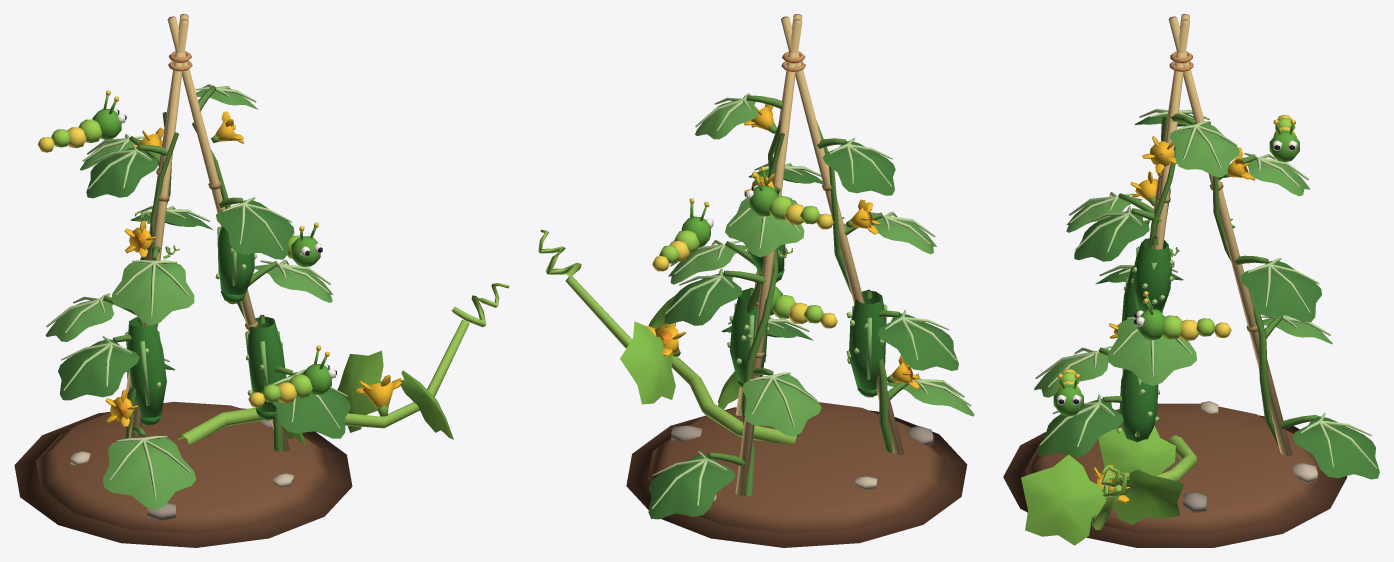
The model's file is cucumber.glb.
3 renders of one model, left to right at view 1: azimuth 30°, elevation 25°; view 2: azimuth 150°, elevation 25°; view 3: azimuth 270°, elevation 25°, orthographic.
Visible parts, largest first — view 1: VN_mound_soil, VN_mound_rim, VN_mound, VN_leaf_2_blade, VN_shoot, VN_leaf_8_blade, VN_leaf_5_blade, VN_shoot_stem, VN_leaf_9_blade, VN_fruit_1_cucumber_body, VN_leaf_3_blade, VN_pests (+11 smaller); view 2: VN_mound_soil, VN_mound, VN_mound_rim, VN_shoot, VN_vines, VN_pests, VN_leaf_1_blade, VN_leaf_4_blade, VN_shoot_stem, VN_leaf_5_blade, VN_fruit_1_cucumber_body, VN_leaf_11_blade (+12 smaller); view 3: VN_mound_soil, VN_shoot, VN_mound, VN_mound_rim, VN_leaf_1_blade, VN_leaf_6_blade, VN_leaf_7_blade, VN_leaf_3_blade, VN_vines, VN_leaf_12_blade, VN_fruit_3_cucumber_body, VN_fruit_2_cucumber_body (+13 smaller).
Boxes of the visible parts, bbox=[...] form: VN_mound_soil: bbox=[36, 401, 330, 533]; VN_mound_rim: bbox=[14, 408, 352, 547]; VN_mound: bbox=[70, 14, 293, 520]; VN_leaf_2_blade: bbox=[103, 438, 196, 509]; VN_shoot: bbox=[284, 350, 453, 445]; VN_leaf_8_blade: bbox=[111, 262, 194, 325]; VN_leaf_5_blade: bbox=[58, 339, 139, 400]; VN_shoot_stem: bbox=[178, 320, 469, 444]; VN_leaf_9_blade: bbox=[216, 200, 294, 259]; VN_fruit_1_cucumber_body: bbox=[127, 317, 166, 417]; VN_leaf_3_blade: bbox=[268, 372, 350, 438]; VN_pests: bbox=[37, 119, 312, 407]; VN_mound_soil: bbox=[648, 402, 945, 533]; VN_mound: bbox=[671, 14, 933, 502]; VN_mound_rim: bbox=[626, 407, 967, 547]; VN_shoot: bbox=[620, 296, 766, 409]; VN_vines: bbox=[741, 121, 893, 496]; VN_pests: bbox=[652, 195, 837, 328]; VN_leaf_1_blade: bbox=[648, 454, 735, 519]; VN_leaf_4_blade: bbox=[742, 374, 821, 436]; VN_shoot_stem: bbox=[565, 276, 798, 444]; VN_leaf_5_blade: bbox=[877, 313, 958, 370]; VN_fruit_1_cucumber_body: bbox=[849, 290, 886, 390]; VN_leaf_11_blade: bbox=[822, 141, 895, 195]; VN_mound_soil: bbox=[1025, 403, 1324, 533]; VN_shoot: bbox=[1021, 425, 1184, 545]; VN_mound: bbox=[1149, 14, 1317, 513]; VN_mound_rim: bbox=[1003, 415, 1347, 547]; VN_leaf_1_blade: bbox=[1292, 416, 1379, 479]; VN_leaf_6_blade: bbox=[1108, 319, 1196, 385]; VN_leaf_7_blade: bbox=[1240, 261, 1321, 322]; VN_leaf_3_blade: bbox=[1038, 399, 1123, 457]; VN_vines: bbox=[1149, 117, 1278, 447]; VN_leaf_12_blade: bbox=[1170, 123, 1239, 177]; VN_fruit_3_cucumber_body: bbox=[1133, 238, 1171, 312]; VN_fruit_2_cucumber_body: bbox=[1119, 369, 1158, 442].
Bounding box in the file's own units: 0.8067 × 0.85 × 0.6017.
